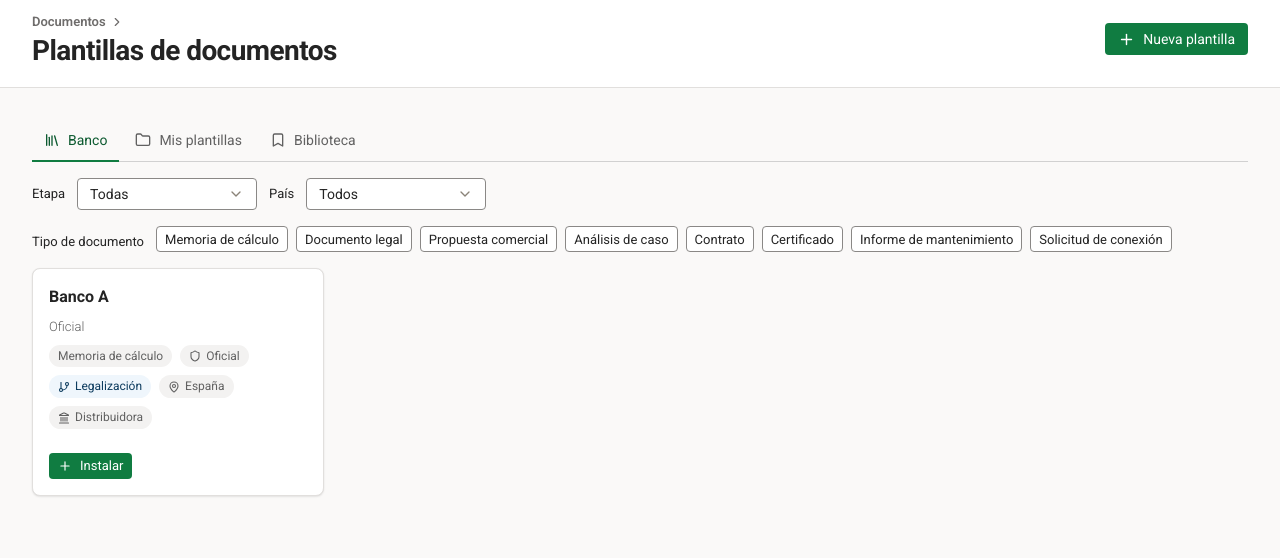
Test: TemplatesGallery › switches to the library tab and shows category/label filters
The width and height of the screenshot is (1280, 558).
Expected: the text "Banco A" is shown, [49,285,109,309]
Click the tab "Biblioteca": (313, 141) [258,120,368,162]
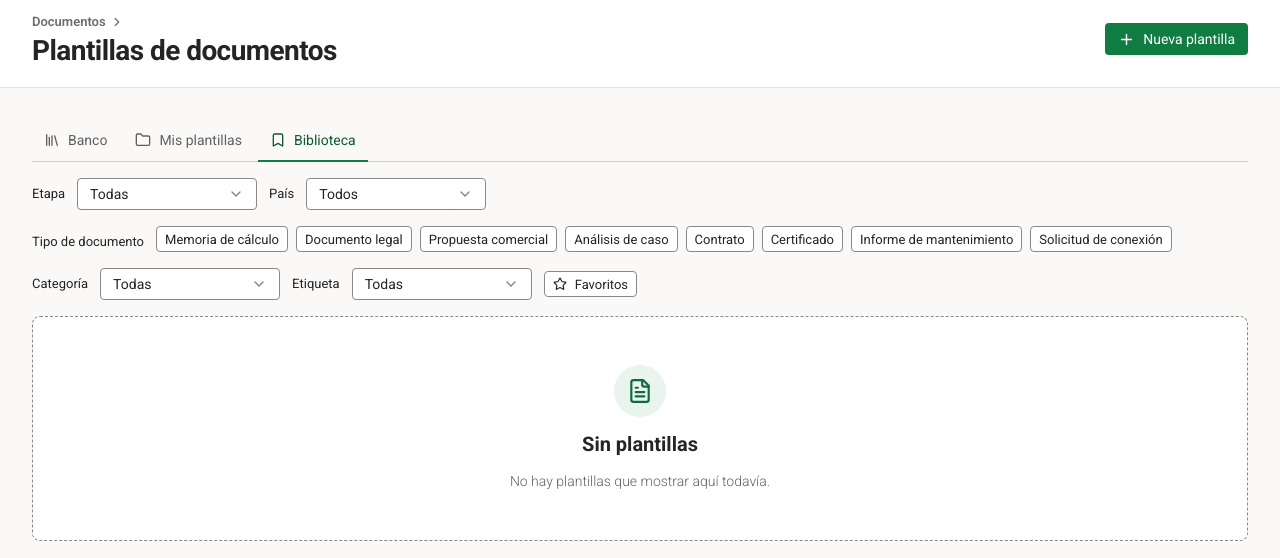
Expected: the dropdown labelled "Categoría" is shown, [100,268,280,300]
Expected: the dropdown labelled "Etiqueta" is shown, [352,268,532,300]
